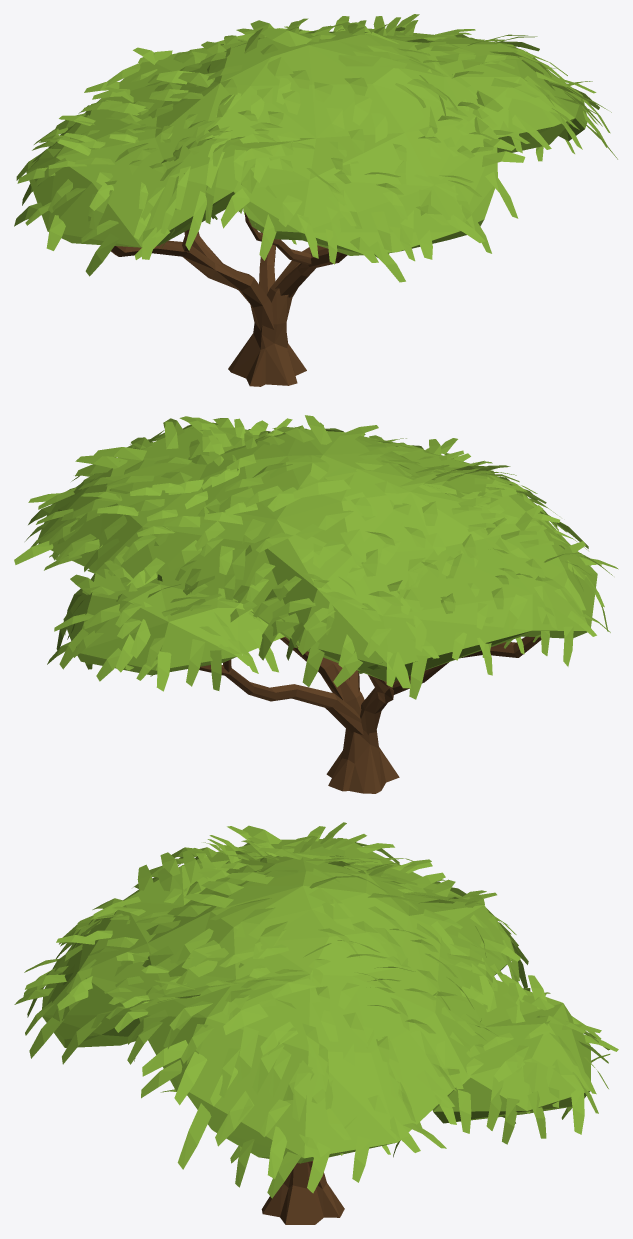
File: SM_Tree_Acacia_Mature_A.fbx
3 views of the same model, one above another, from view 1: azimuth 30°, elevation 25°; view 2: azimuth 150°, elevation 25°; view 3: azimuth 270°, elevation 25° (orthographic). The views are drawn at different scales.
Visible parts, largest first — view 1: tree-acacia-mature-a; view 2: tree-acacia-mature-a; view 3: tree-acacia-mature-a.
Boxes of the visible parts, x1,y1,x2,y2 form: tree-acacia-mature-a: [14, 14, 617, 386]; tree-acacia-mature-a: [14, 415, 618, 793]; tree-acacia-mature-a: [14, 822, 618, 1224].
Size of the model in its own units: 16.13 by 8.64 by 13.57.
